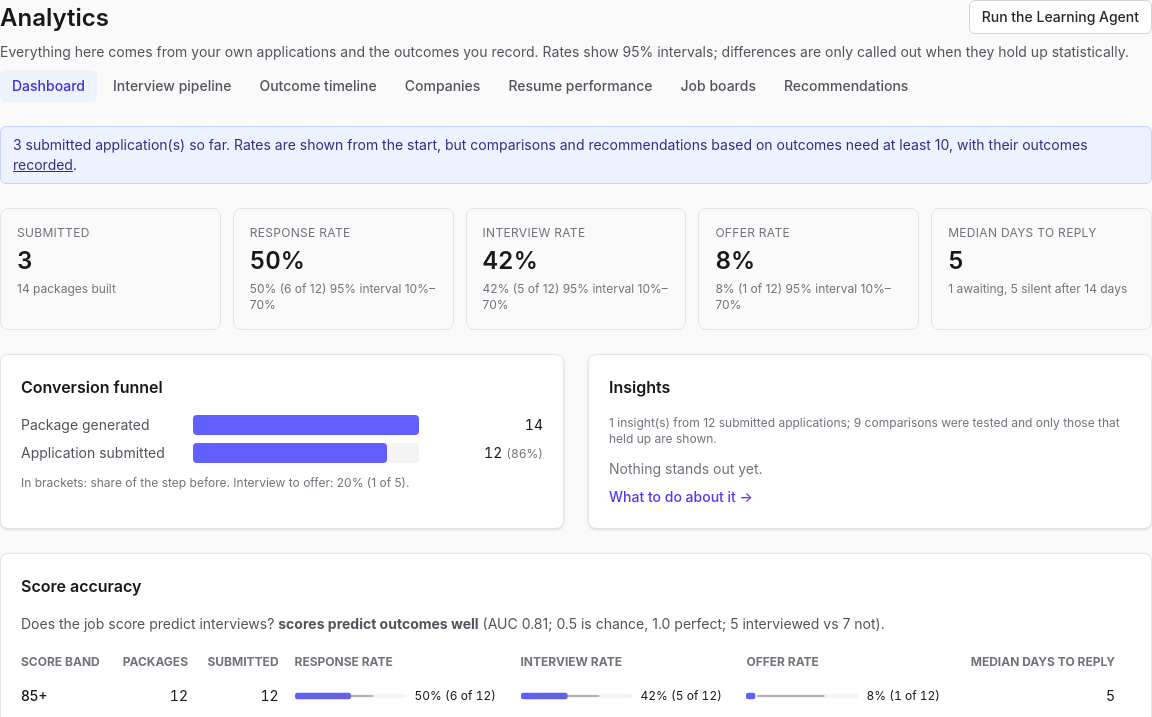
AnalyticsDashboard › says when there is not enough data, and runs the Learning Agent
Expected: the text "3 submitted application(s) so far" is shown, [0,126,1151,184]
Click the button "Run the Learning Agent" at x=1060, y=17, box [969,0,1151,34]
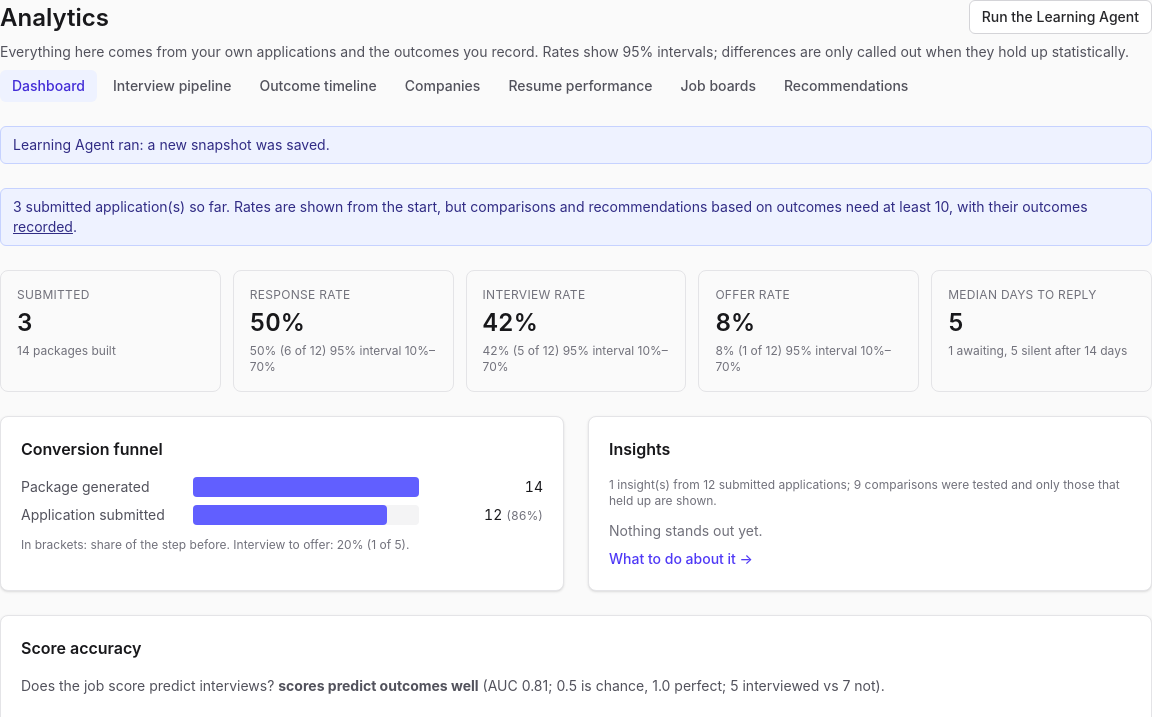
Now the text "Learning Agent ran: a new snapshot was saved." is shown, box [0,126,1151,164]
